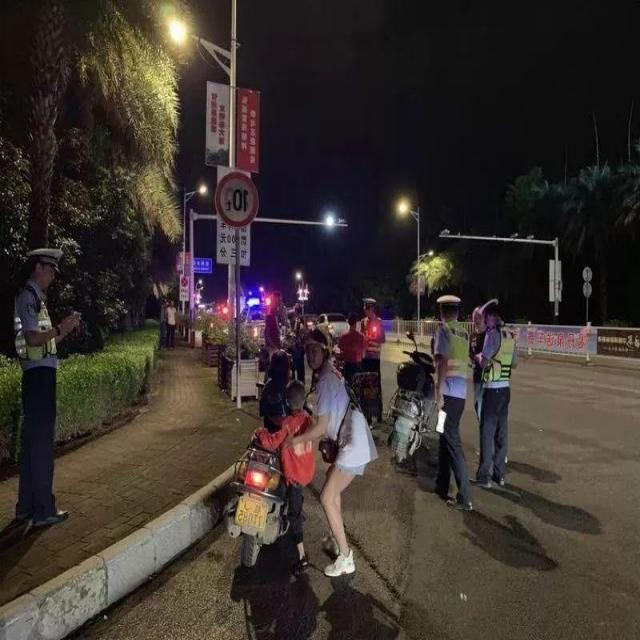Reflective-Jacket: (429, 318, 477, 402), (13, 285, 59, 367), (478, 331, 518, 392)
Safety-Helmet: (434, 287, 466, 314)
